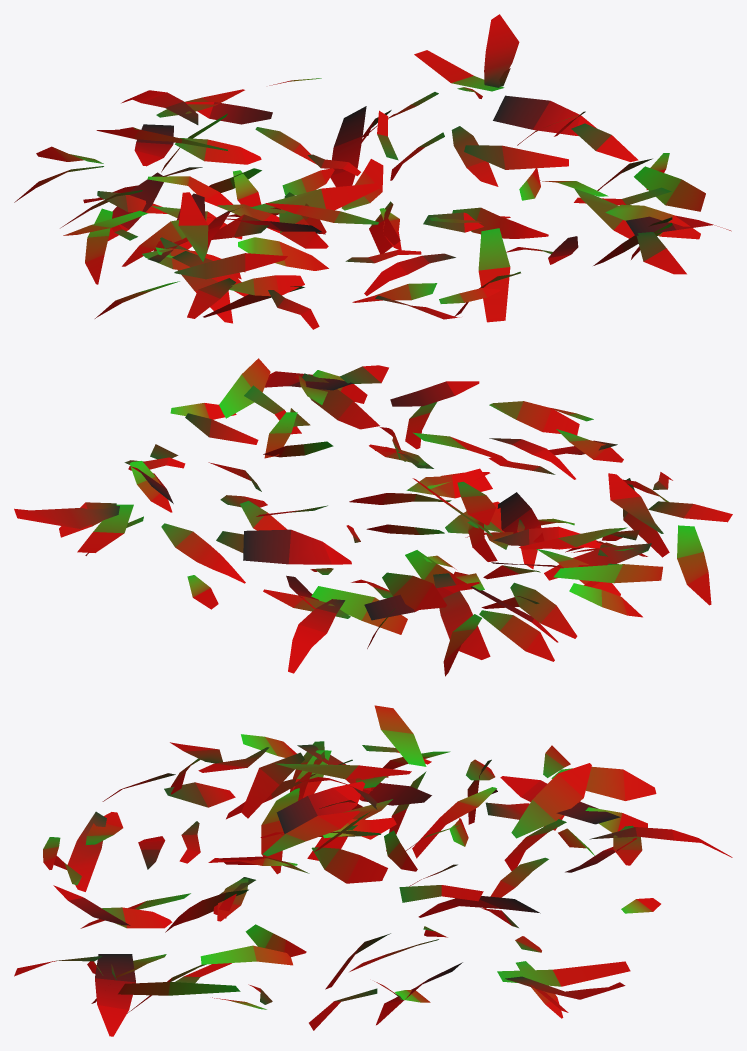
The model's file is Var2_LOD2.fbx.
The picture shows the model from 3 angles, top to bottom: view 1: azimuth 30°, elevation 25°; view 2: azimuth 150°, elevation 25°; view 3: azimuth 270°, elevation 25°; orthographic projection. The views are drawn at different scales.
Parts seen in each view (by area): view 1: _377c_Var2_LOD2; view 2: _377c_Var2_LOD2; view 3: _377c_Var2_LOD2.
Boxes of the visible parts, box(x1,y1,x2,y2) form: _377c_Var2_LOD2: box(14, 14, 731, 329); _377c_Var2_LOD2: box(14, 358, 732, 676); _377c_Var2_LOD2: box(14, 705, 732, 1036).
Bounding box in the file's own units: 64.26 × 7.73 × 65.33.
